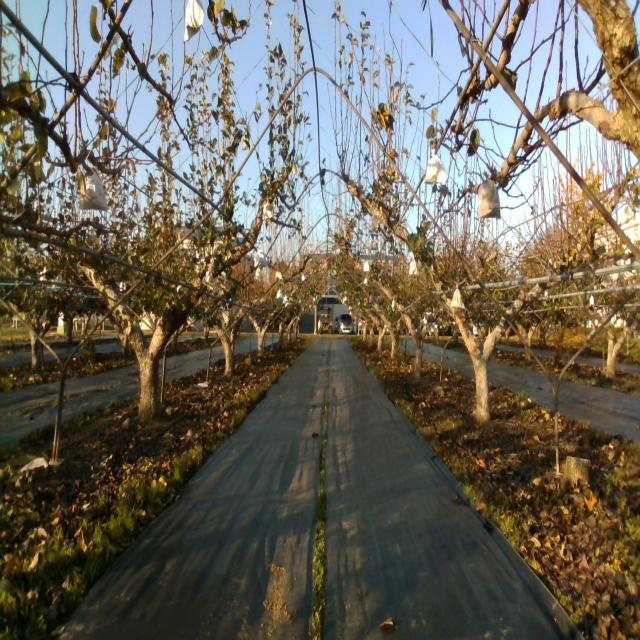pearbags: (78, 163, 108, 212), (478, 176, 501, 221), (182, 0, 204, 46), (424, 151, 448, 185), (253, 242, 267, 268), (452, 285, 466, 310), (200, 264, 213, 290), (408, 255, 421, 275), (262, 198, 273, 220)
